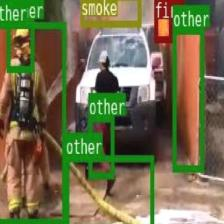fire: (154, 0, 172, 41)
smoke: (79, 0, 140, 24)
